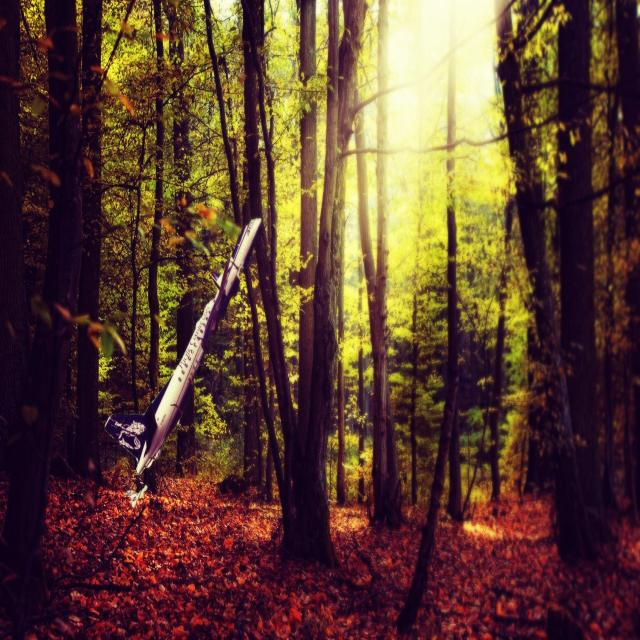airplane: (104, 215, 262, 478)
